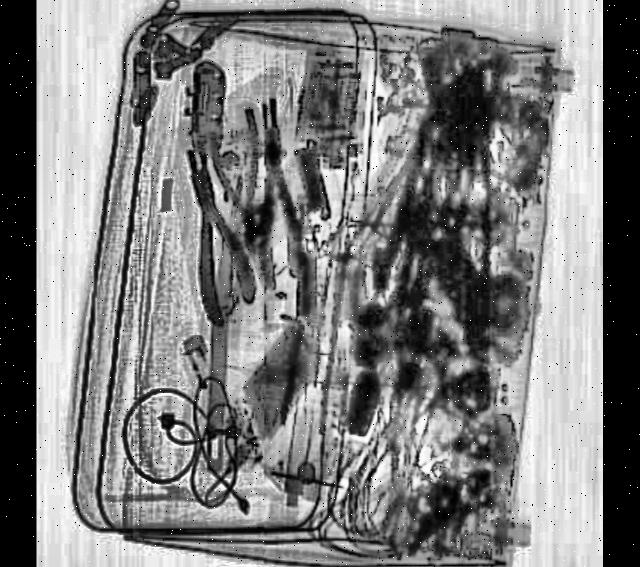Pliers: (166, 140, 260, 332), (202, 110, 276, 269), (244, 97, 304, 292)
